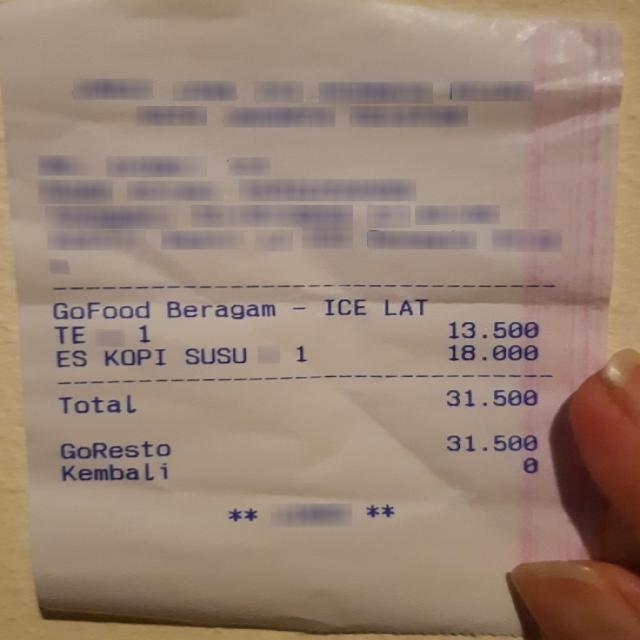text: (58, 439, 168, 459), (60, 462, 166, 482), (163, 299, 273, 318), (46, 298, 148, 318), (448, 319, 536, 338), (55, 394, 133, 414), (447, 344, 537, 360), (445, 389, 534, 405), (445, 434, 534, 450), (380, 294, 439, 313), (102, 347, 164, 365), (184, 346, 244, 363), (322, 296, 363, 314), (54, 348, 85, 366), (53, 325, 83, 342), (226, 507, 252, 520), (521, 454, 535, 474), (364, 504, 390, 514), (138, 325, 148, 341), (294, 345, 304, 361)
